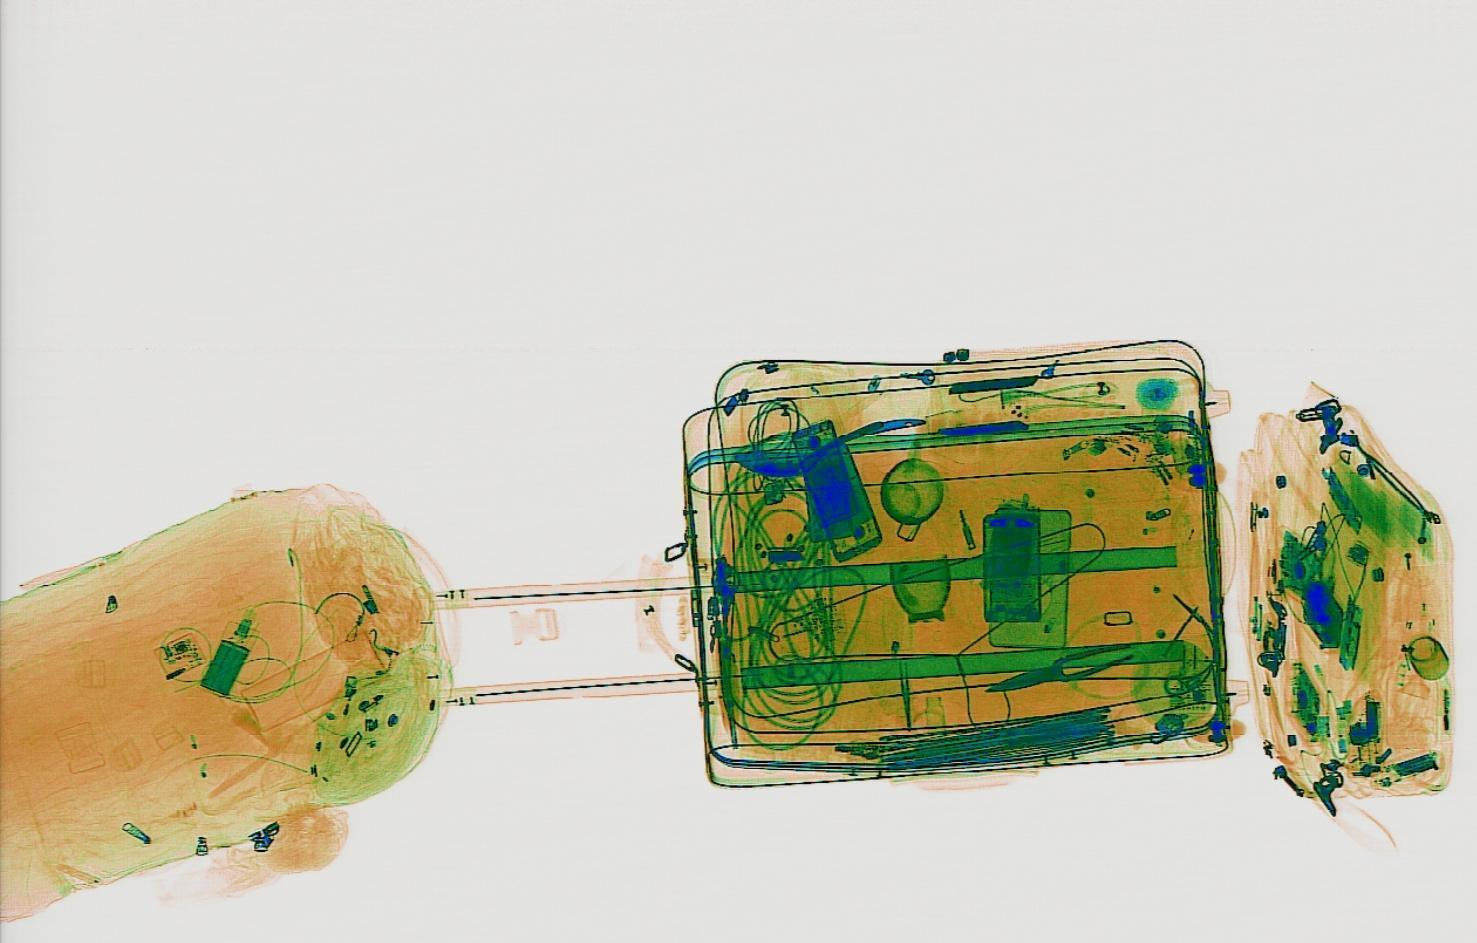Pliers: (979, 638, 1145, 698)
